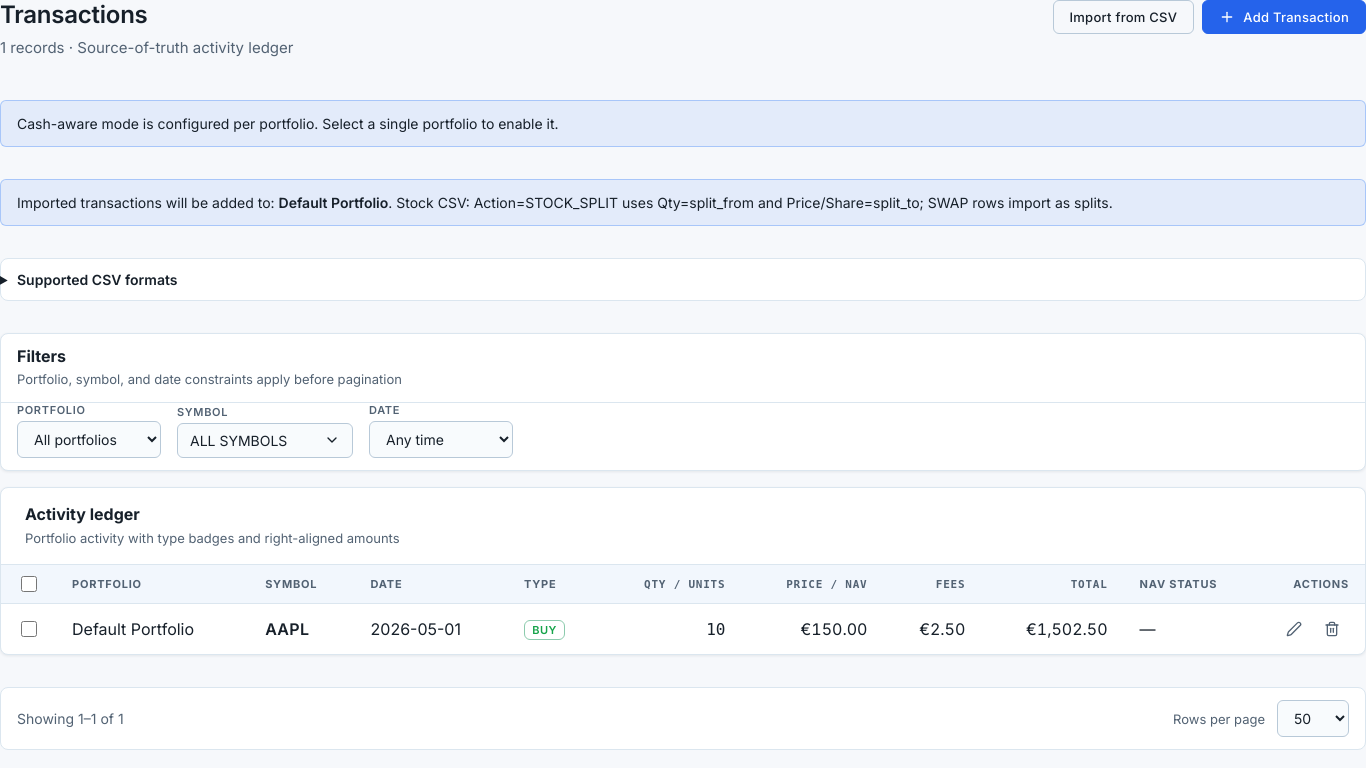
Scenario: Transactions Page › shows readable warning when delete fails with generic error
The image size is (1366, 768).
Expected: the text "AAPL" is shown, [265,619,309,639]
Click the button titled "Delete".
click(1332, 629)  # box [1315,612,1349,646]
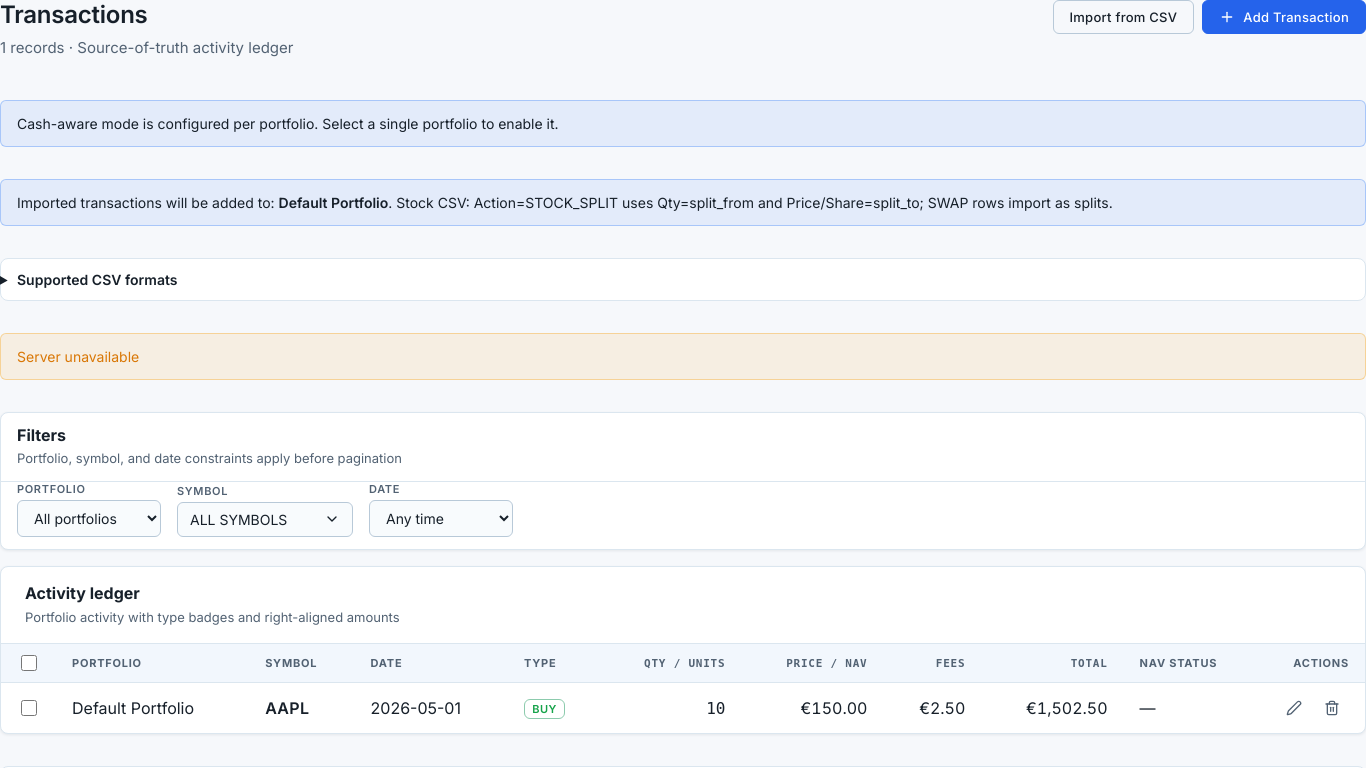
Expected: the text "Server unavailable" is shown, [17,346,139,366]
